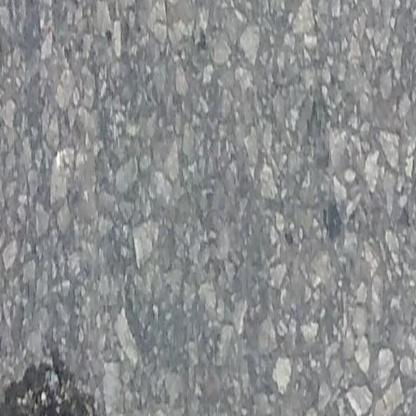Cracks: (0, 360, 119, 416)
